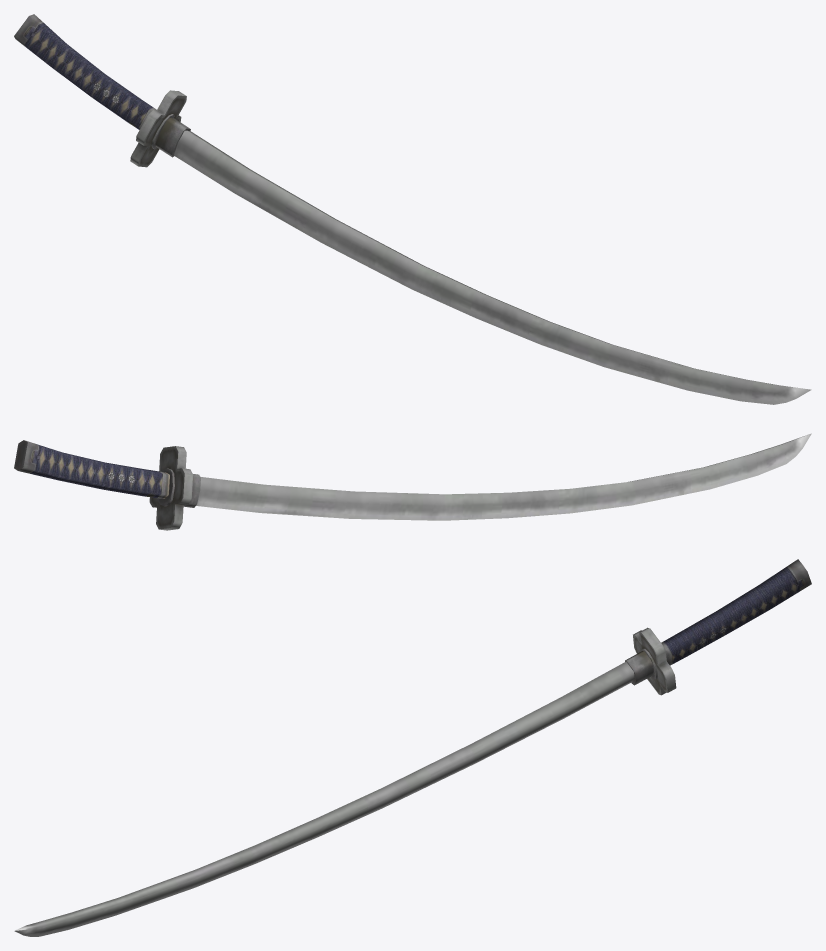
Rendered from weapon-copperweapons.glb.
3 renders of one model, top to bottom at view 1: azimuth 90°, elevation 25°; view 2: azimuth 150°, elevation 25°; view 3: azimuth 330°, elevation 25°, orthographic.
Size of the model in its own units: 0.6984 by 0.3323 by 1.19.
Materials: 1 (1 with a texture image).
